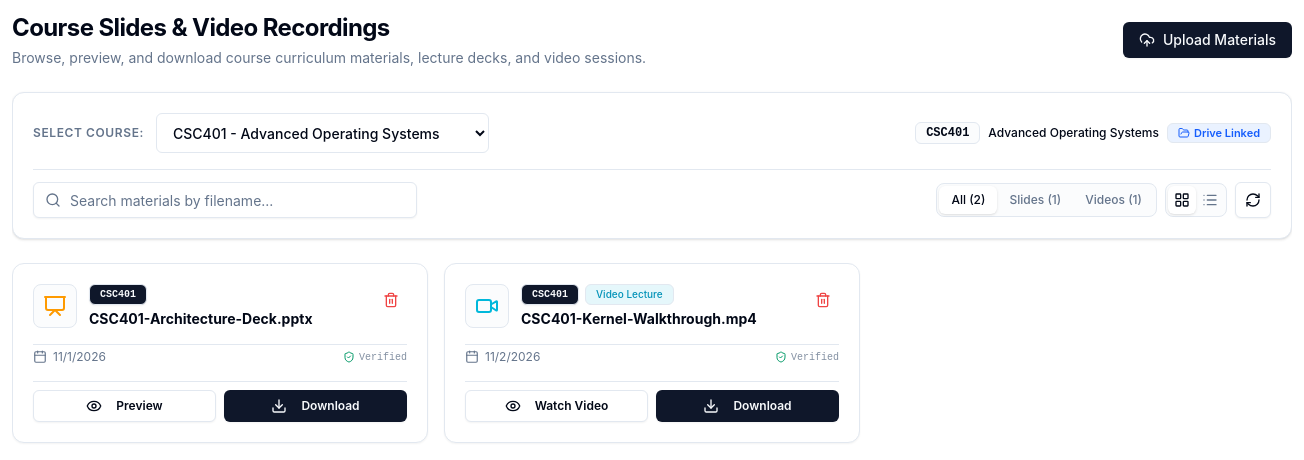
Scenario: CourseSlidesPage › switches between Grid and Table views smoothly
Expected: the heading "CSC401-Architecture-Deck.pptx" is shown, [89,305,312,328]
# Switch to Table View
Click the button titled "Table View": (1210, 200) [1196,186,1224,214]
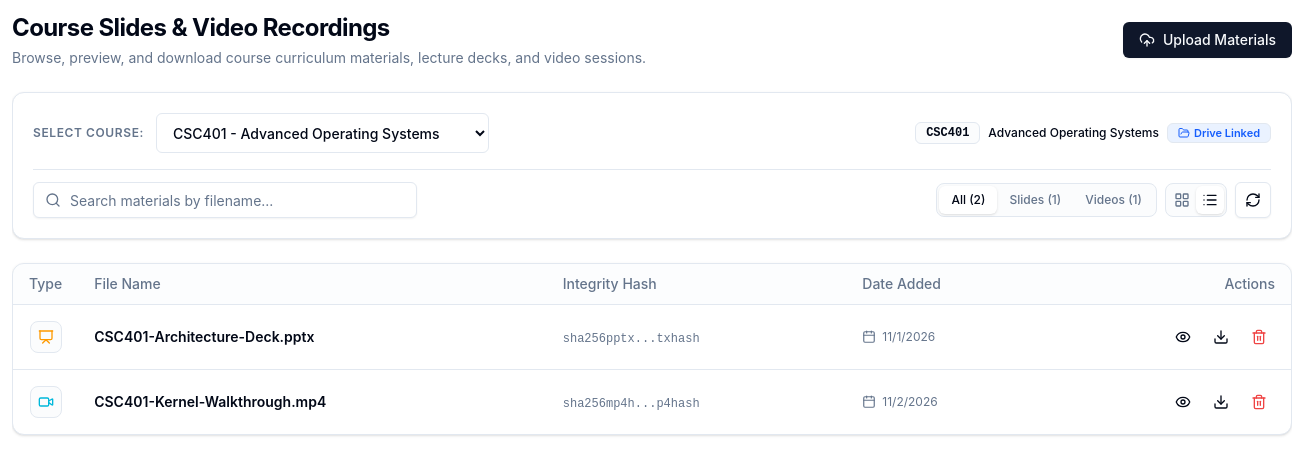
Now the column heading "Integrity Hash" is shown, box [547,264,846,304]
Now the column heading "Date Added" is shown, box [846,264,1043,304]
Now the column heading "Actions" is shown, box [1043,264,1291,304]
